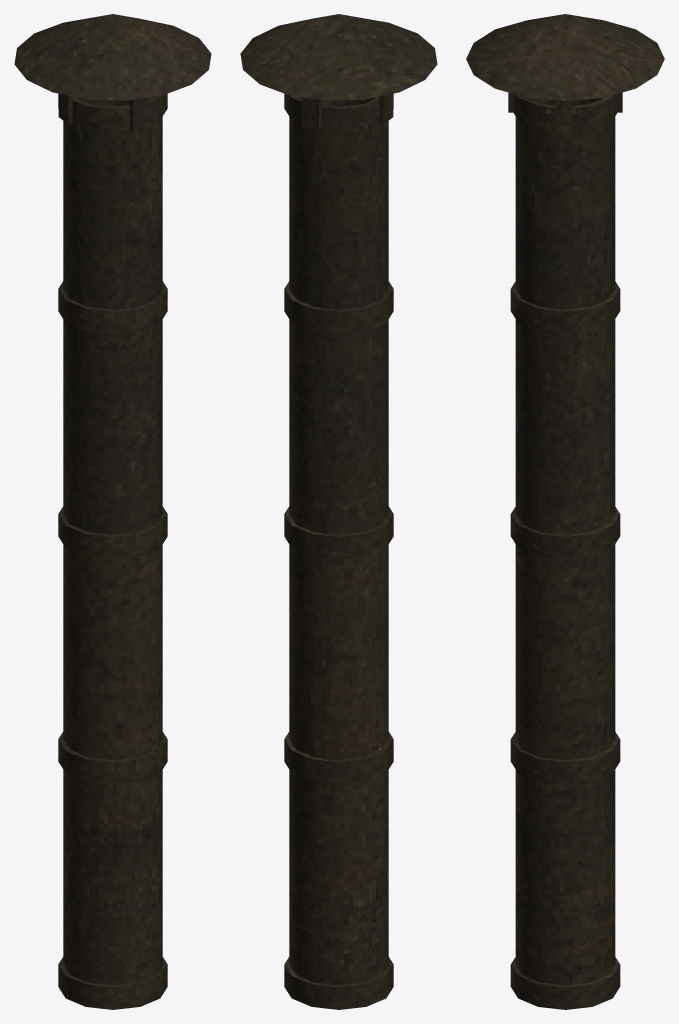
The model's file is chimney_a_4_1.glb.
3 renders of one model, left to right at view 1: azimuth 30°, elevation 25°; view 2: azimuth 150°, elevation 25°; view 3: azimuth 270°, elevation 25°, orthographic.
Parts seen in each view (by area): view 1: chimney_a_4_1; view 2: chimney_a_4_1; view 3: chimney_a_4_1.
Boxes of the visible parts, x1,y1,x2,y2 form: chimney_a_4_1: (14, 14, 211, 1009); chimney_a_4_1: (240, 14, 437, 1009); chimney_a_4_1: (466, 14, 664, 1009).
Bounding box in the file's own units: 0.4 × 2.16 × 0.4.
Materials: 1 (1 with a texture image).
